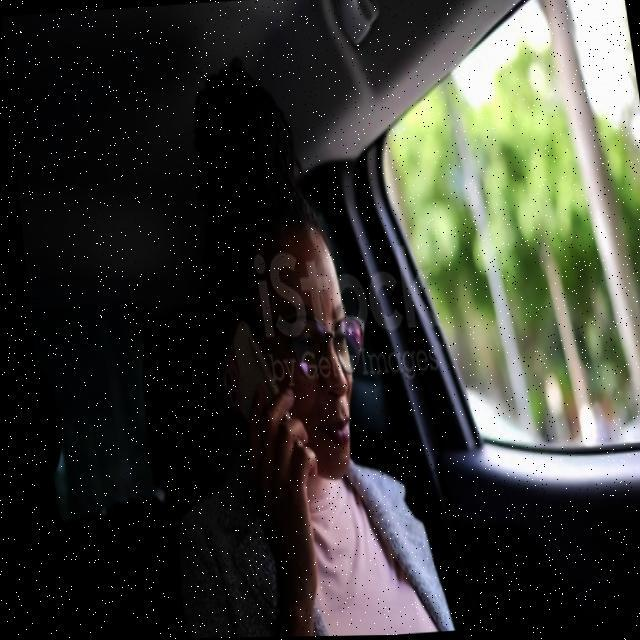PhoneCall: (205, 317, 299, 484)
